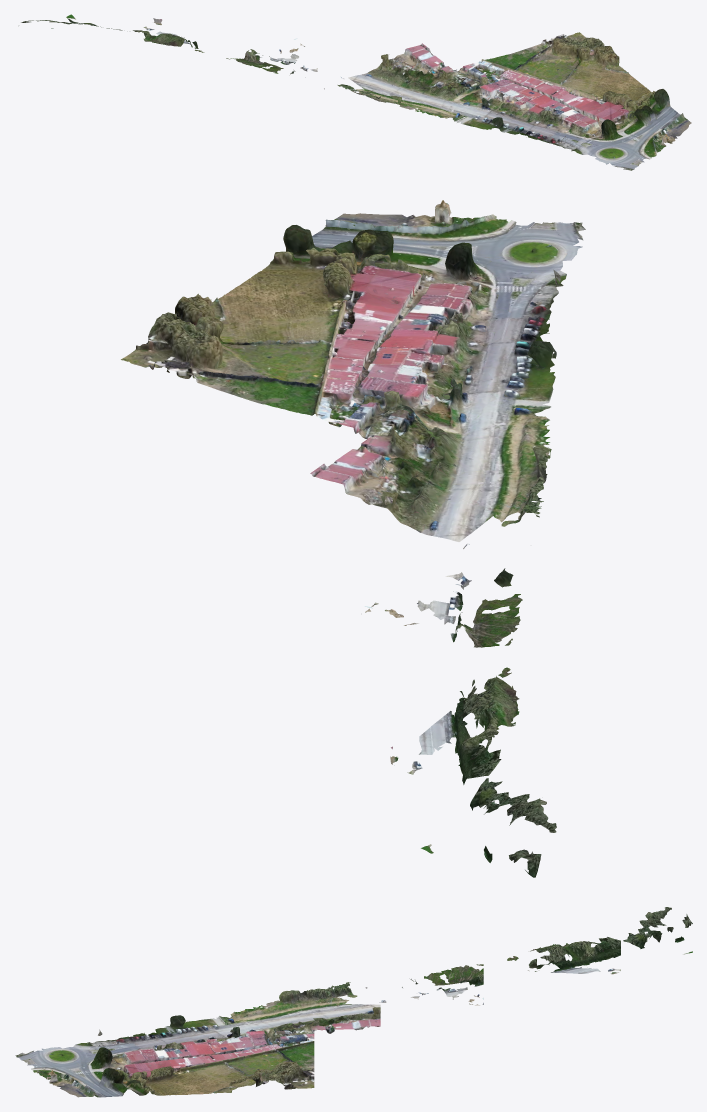
Rendered from bairro_00.glb.
The picture shows the model from 3 angles, top to bottom: view 1: azimuth 30°, elevation 25°; view 2: azimuth 150°, elevation 25°; view 3: azimuth 270°, elevation 25°; orthographic projection. The views are drawn at different scales.
Parts seen in each view (by area): view 1: bairro_00; view 2: bairro_00; view 3: bairro_00.
Boxes of the visible parts, x1=… form: bairro_00: x1=21, y1=14, x2=691, y2=170; bairro_00: x1=121, y1=200, x2=585, y2=877; bairro_00: x1=15, y1=907, x2=692, y2=1097.
Size of the model in its own units: 235 by 25.84 by 338.
Materials: 1 (1 with a texture image).
